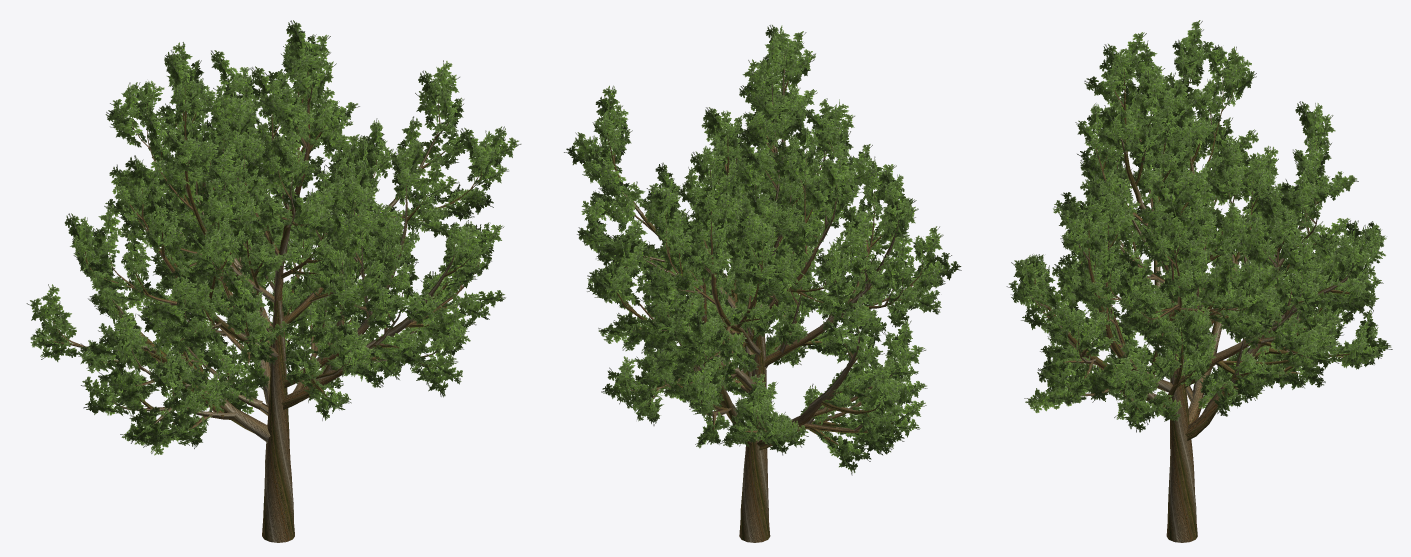
Rendered from oak-lod0.glb.
The picture shows the model from 3 angles, left to right: view 1: azimuth 30°, elevation 25°; view 2: azimuth 150°, elevation 25°; view 3: azimuth 270°, elevation 25°; orthographic projection. The views are drawn at different scales.
Visible parts, largest first — view 1: leaves, branches; view 2: leaves, branches; view 3: leaves, branches.
Part boxes in pixels (x1,y1,x2,y2): leaves: (26,20,521,455); branches: (48,71,481,542); leaves: (564,25,961,475); branches: (597,54,922,542); leaves: (1006,20,1392,432); branches: (1029,52,1371,542).
Bounding box in the file's own units: 92.52 × 108 × 76.39.
2 materials, 2 textured.
